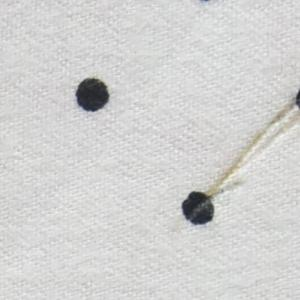Oil Stain: (190, 92, 300, 226)
